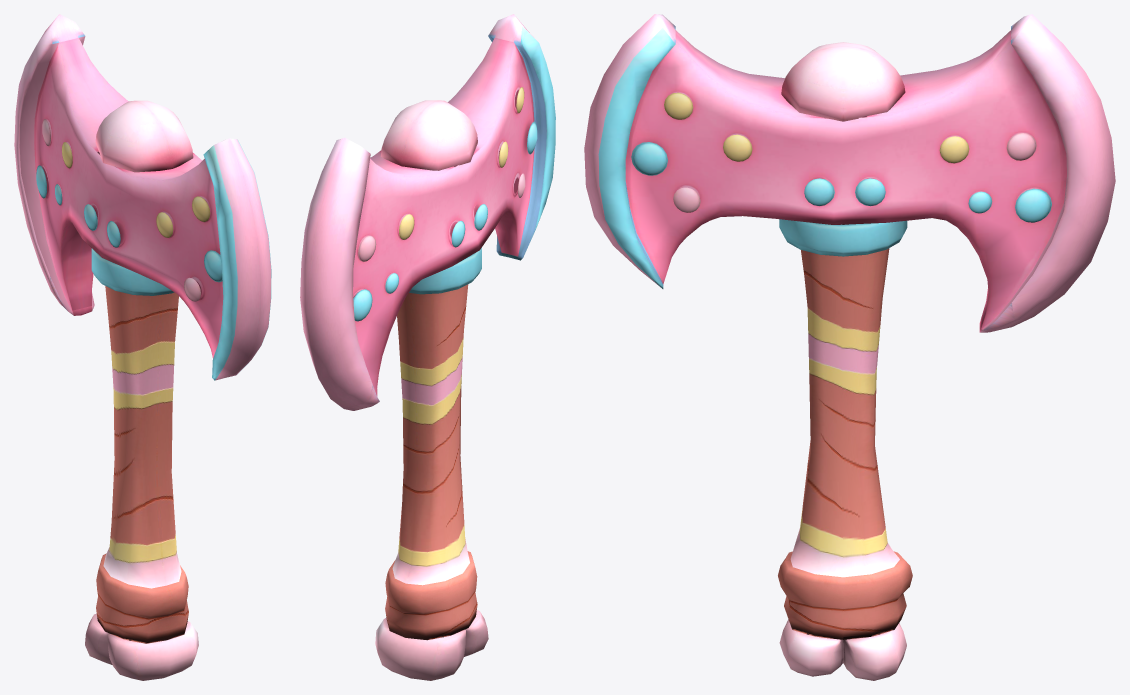
3 renders of one model, left to right at view 1: azimuth 30°, elevation 25°; view 2: azimuth 150°, elevation 25°; view 3: azimuth 270°, elevation 25°, orthographic. The views are drawn at different scales.
Visible parts, largest first — view 1: Candy Axe; view 2: Candy Axe; view 3: Candy Axe.
Boxes of the visible parts, <box> form: Candy Axe: <box>14,14,271,680</box>; Candy Axe: <box>300,14,555,680</box>; Candy Axe: <box>584,14,1115,680</box>.
Size of what is drawn, in the model's own units: 0.1173 by 0.7146 by 0.5225.
1 material, 1 textured.
